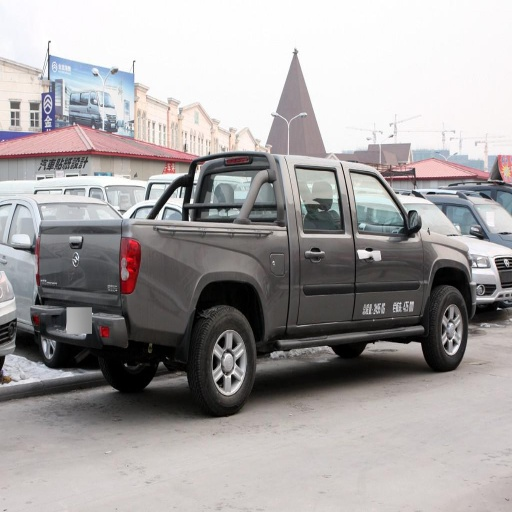_background_: (16, 295, 134, 347)
back_bumper: (210, 170, 263, 206)
back_left_light: (254, 161, 354, 322)
back_right_door: (120, 236, 140, 294)
front_left_light: (346, 167, 425, 319)
tailgate: (44, 217, 288, 349)
trunk: (191, 306, 256, 414), (423, 287, 468, 371)
